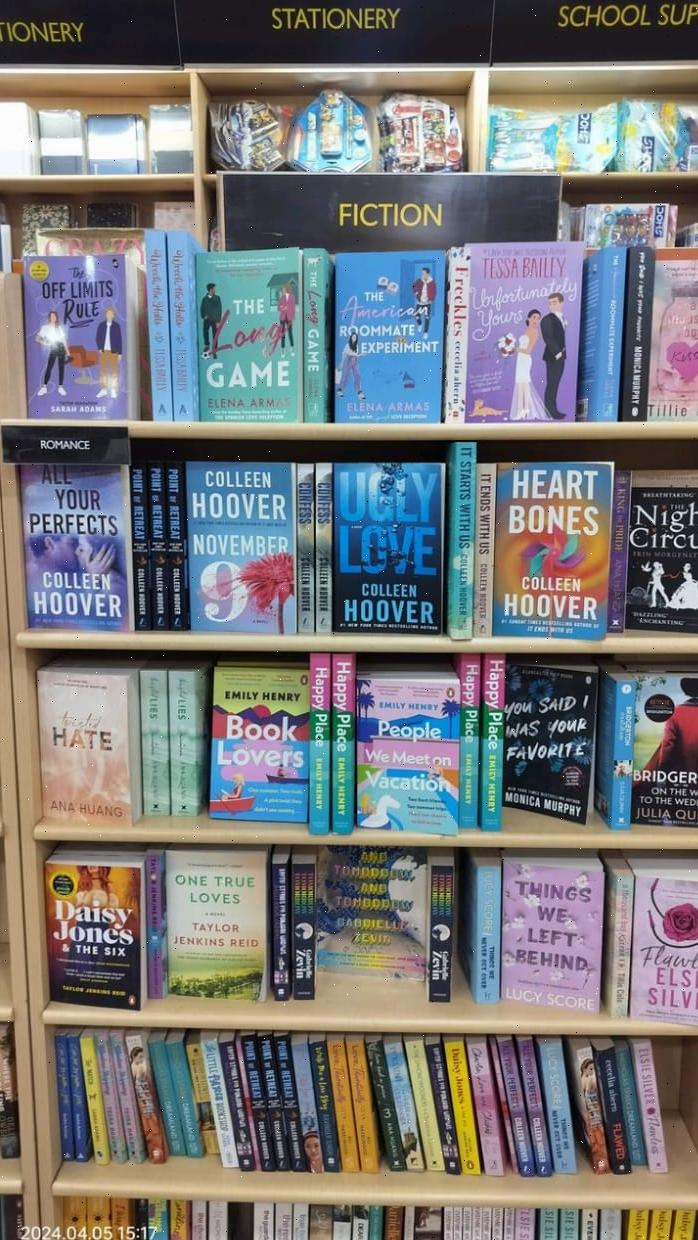book: (490, 462, 614, 633), (199, 257, 317, 422), (334, 251, 446, 417), (186, 461, 295, 628), (500, 852, 607, 1014), (45, 848, 148, 1011), (610, 666, 698, 828), (617, 855, 698, 1031), (612, 470, 698, 627), (644, 250, 698, 412), (582, 245, 629, 417), (596, 665, 639, 829), (462, 854, 506, 1005), (403, 1036, 448, 1174), (620, 248, 656, 418), (441, 1040, 484, 1180), (446, 449, 479, 631), (123, 1032, 168, 1165), (364, 1036, 407, 1173), (533, 1035, 575, 1175), (167, 231, 198, 417), (590, 1038, 632, 1175), (463, 1035, 504, 1175), (493, 1036, 534, 1175), (198, 1033, 239, 1170), (627, 1036, 668, 1173), (212, 662, 307, 721), (99, 1028, 139, 1162), (217, 1033, 255, 1172), (163, 1029, 203, 1158), (239, 1032, 276, 1171), (574, 201, 678, 250), (146, 231, 173, 414), (138, 668, 170, 818), (36, 228, 148, 270), (77, 1031, 111, 1165), (183, 1030, 220, 1153), (345, 1036, 378, 1173), (325, 1036, 358, 1173), (291, 1037, 324, 1174), (330, 654, 355, 833), (480, 656, 505, 829), (427, 855, 456, 1004), (308, 652, 331, 833), (458, 653, 482, 826), (167, 667, 194, 817), (474, 465, 496, 630), (291, 852, 315, 1002), (130, 461, 151, 624), (165, 463, 185, 624), (53, 1030, 77, 1161), (271, 848, 290, 1002), (21, 203, 72, 259), (0, 101, 39, 173), (0, 1020, 20, 1157), (621, 1206, 691, 1240), (152, 203, 201, 243), (0, 1194, 26, 1240), (409, 1206, 443, 1240), (85, 1195, 109, 1240), (62, 1196, 86, 1240), (108, 1197, 132, 1240), (307, 1204, 335, 1240), (144, 1197, 167, 1240), (251, 1200, 274, 1240), (207, 1199, 229, 1240), (169, 1199, 190, 1240), (189, 1199, 209, 1240), (597, 1208, 622, 1240), (512, 1206, 535, 1240), (381, 1206, 404, 1240), (273, 1203, 294, 1240), (290, 1202, 310, 1240), (557, 1207, 579, 1240), (365, 1205, 385, 1240), (349, 1205, 369, 1240), (537, 1208, 557, 1240)
